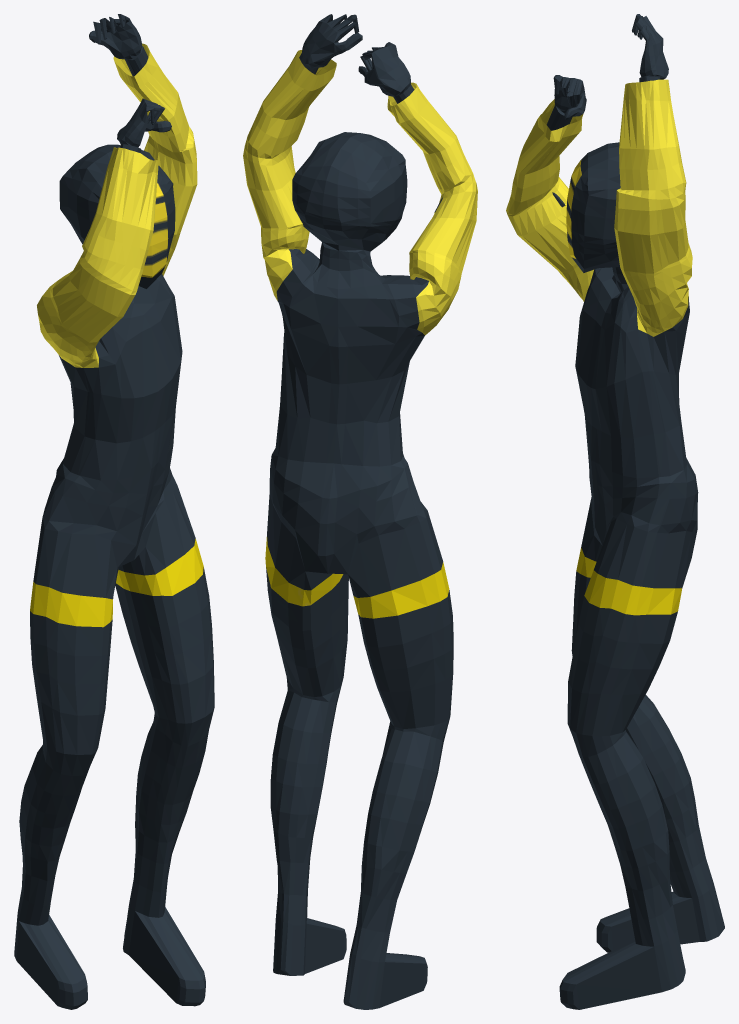
File: Sentry_Attack_000015.obj
3 views of the same model, side by side, from view 1: azimuth 30°, elevation 25°; view 2: azimuth 150°, elevation 25°; view 3: azimuth 270°, elevation 25° (orthographic).
Visible parts, largest first — view 1: Cube; view 2: Cube; view 3: Cube.
Boxes of the visible parts, x1,y1,x2,y2 form: Cube: [14, 14, 214, 1009]; Cube: [243, 14, 477, 1009]; Cube: [506, 14, 724, 1009].
Size of the model in its own units: 0.8764 by 4.56 by 0.9392.
